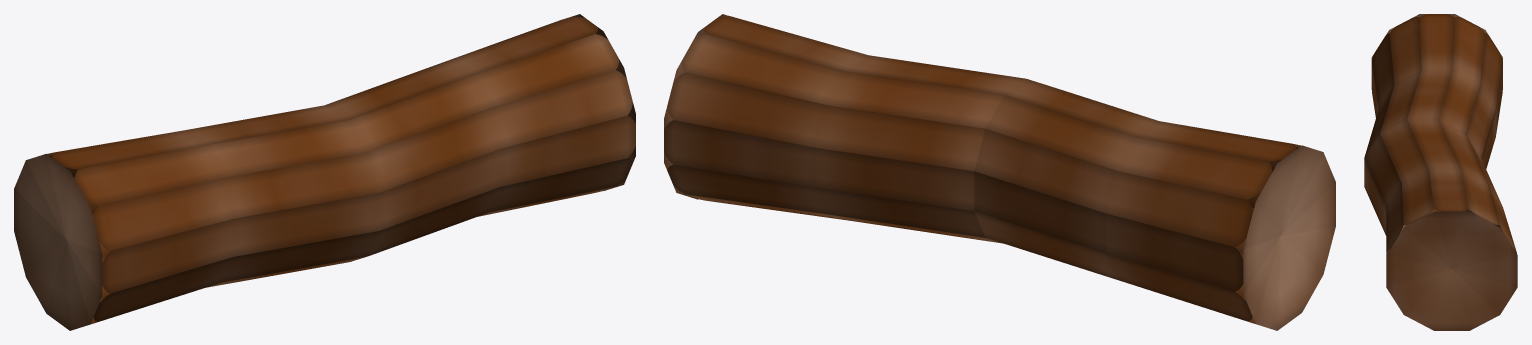
Rendered from wooden_log.obj.
The picture shows the model from 3 angles, left to right: view 1: azimuth 30°, elevation 25°; view 2: azimuth 150°, elevation 25°; view 3: azimuth 270°, elevation 25°; orthographic projection. The views are drawn at different scales.
Parts seen in each view (by area): view 1: cylinder; view 2: cylinder; view 3: cylinder.
Part boxes in pixels (x1,y1,x2,y2): cylinder: (14, 14, 635, 330); cylinder: (664, 14, 1335, 330); cylinder: (1364, 14, 1517, 330).
Size of the model in its own units: 2 by 0.5625 by 0.6562.
Materials: 1 (1 with a texture image).
